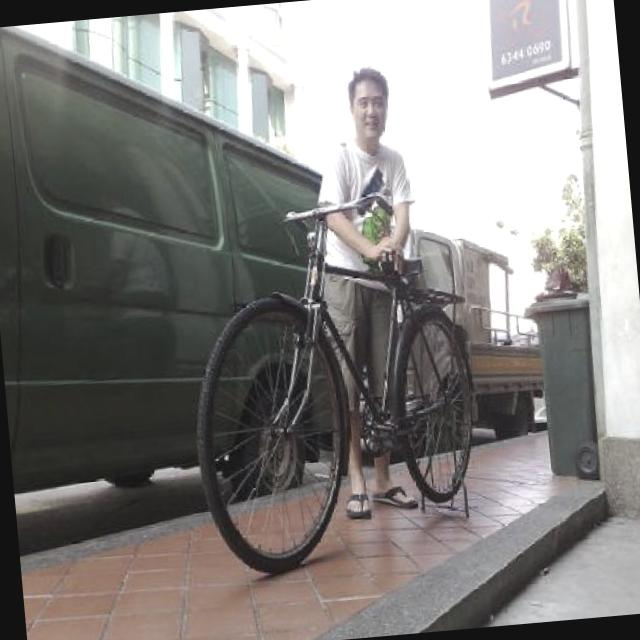Person: (303, 64, 437, 520)
